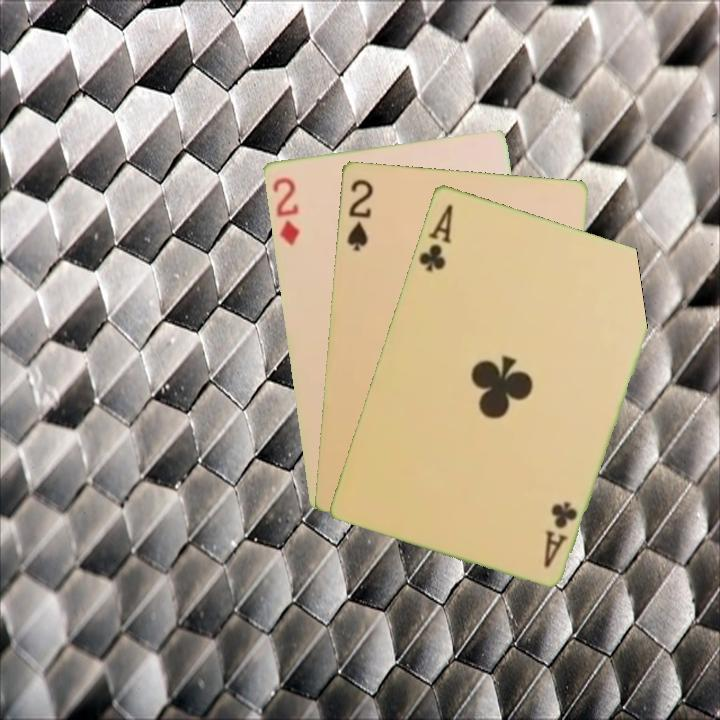2d: (269, 173, 302, 248)
2s: (343, 175, 376, 254)
Ac: (415, 200, 456, 274), (539, 497, 580, 571)
